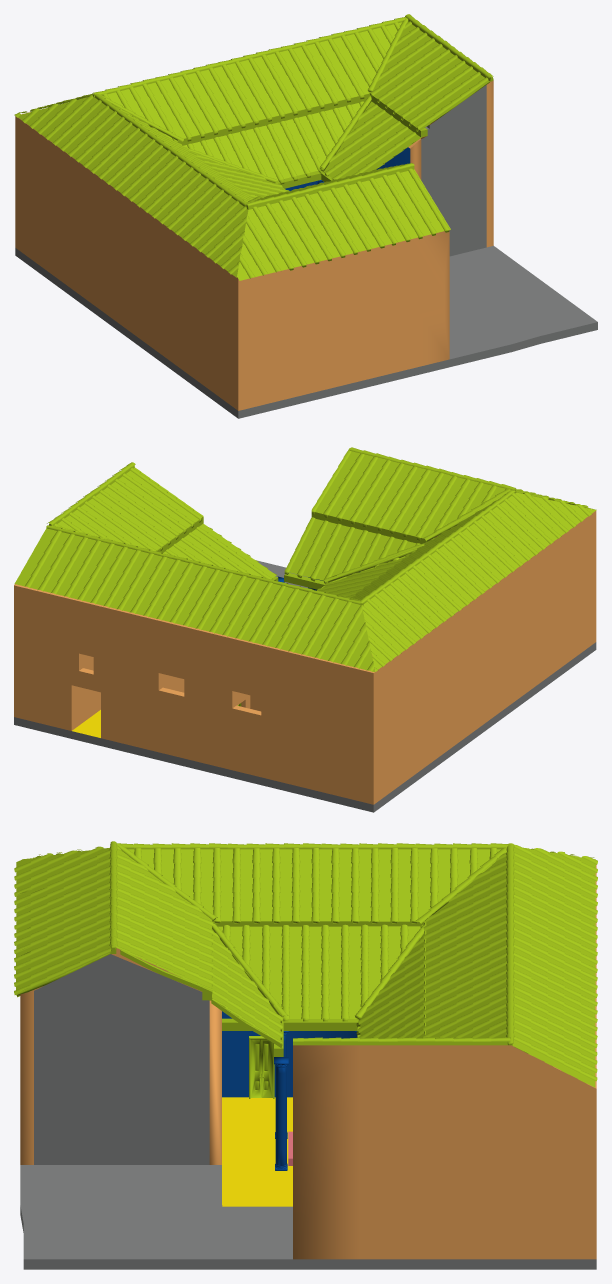
File: AtrioEvidenc_test_optimized.glb
The picture shows the model from 3 angles, top to bottom: view 1: azimuth 30°, elevation 25°; view 2: azimuth 150°, elevation 25°; view 3: azimuth 270°, elevation 25°; orthographic projection. The views are drawn at different scales.
Visible parts, largest first — view 1: TEJADO, Muro exterior, Plane.007, Plane.002, MADERA, mUROINTERIOR; view 2: Muro exterior, TEJADO, Plane.007, MADERA, Cube.028; view 3: TEJADO, Muro exterior, Plane.007, Plane.003, MADERA, mUROINTERIOR, Cube.063, COLUNA.008.
Part boxes in pixels (box(x1,y1,x2,y2)): TEJADO: box(14, 14, 493, 280); Muro exterior: box(15, 80, 493, 410); Plane.007: box(15, 246, 597, 418); Plane.002: box(421, 85, 486, 256); MADERA: box(82, 19, 493, 270); mUROINTERIOR: box(237, 138, 421, 278); Muro exterior: box(14, 511, 596, 804); TEJADO: box(14, 447, 596, 671); Plane.007: box(14, 560, 596, 812); MADERA: box(47, 465, 516, 629); Cube.028: box(75, 654, 184, 727); TEJADO: box(14, 841, 597, 1087); Muro exterior: box(20, 864, 596, 1259); Plane.007: box(20, 1097, 596, 1269); Plane.003: box(34, 954, 209, 1164); MADERA: box(17, 848, 528, 1056); mUROINTERIOR: box(209, 1000, 356, 1164); Cube.063: box(249, 1036, 274, 1098); COLUNA.008: box(275, 1066, 286, 1165).
Size of what is drawn, in the model's own units: 23.61 by 11.14 by 25.39.
